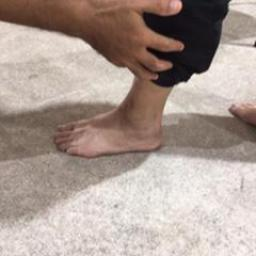Lateral View -Left Foot-: (50, 90, 177, 172)
